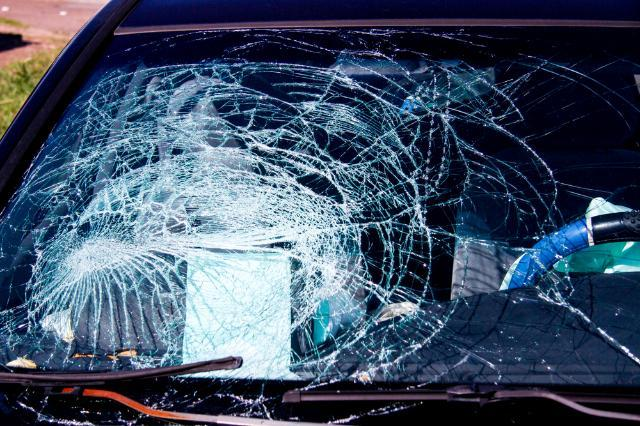glass shatter: (0, 26, 640, 426)
